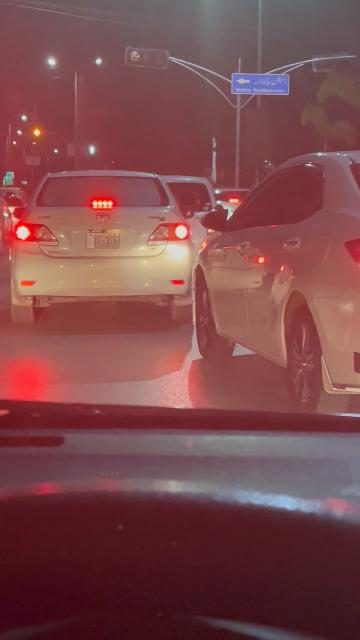plate: (87, 230, 121, 250)
